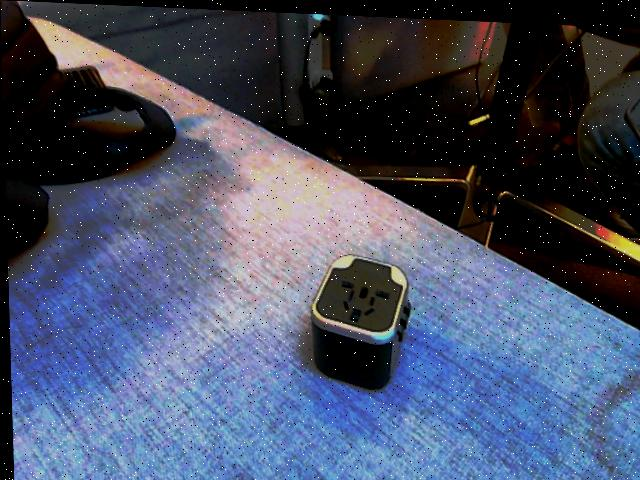adapter: (306, 249, 411, 388)
